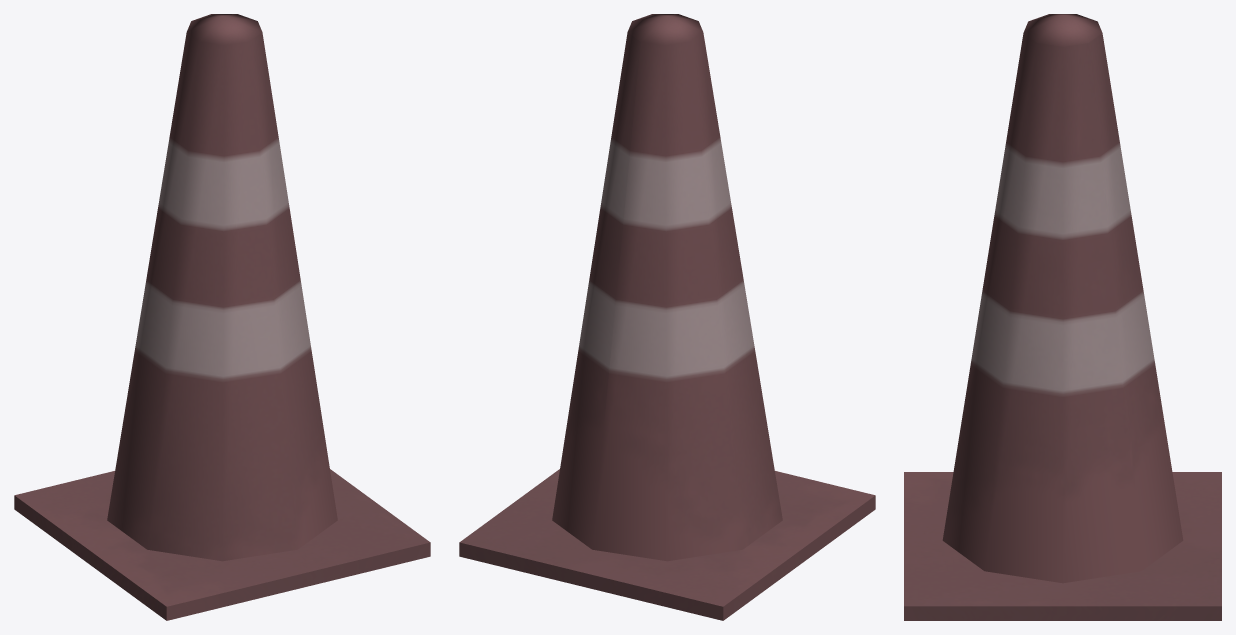
File: BgMD_TriangularCone_0101.fbx
3 views of the same model, side by side, from view 1: azimuth 30°, elevation 25°; view 2: azimuth 150°, elevation 25°; view 3: azimuth 270°, elevation 25° (orthographic). The views are drawn at different scales.
Visible parts, largest first — view 1: pCube11; view 2: pCube11; view 3: pCube11.
Boxes of the visible parts, x1,y1,x2,y2 form: pCube11: (14, 14, 430, 620); pCube11: (459, 14, 875, 620); pCube11: (904, 14, 1221, 620).
Bounding box in the file's own units: 39 × 73 × 39.
Materials: 1 (1 with a texture image).
